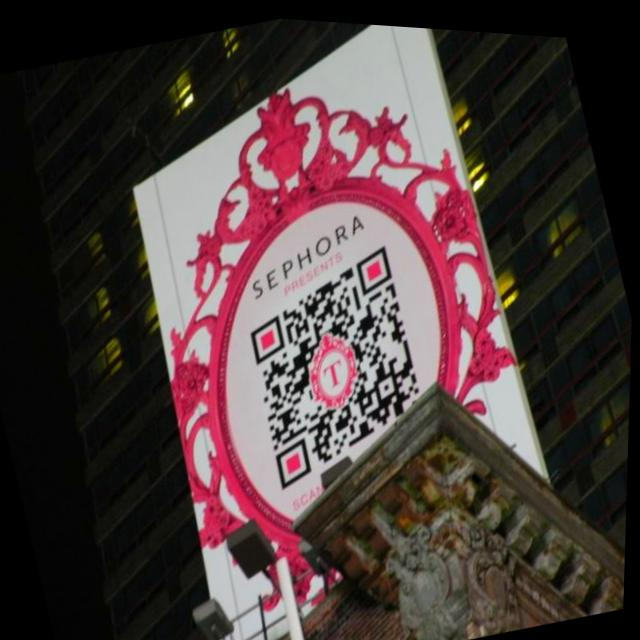qrcode: (230, 233, 443, 493)
